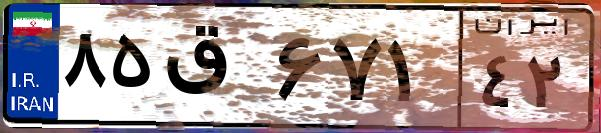1: (385, 28, 445, 110)
2: (525, 38, 570, 115)
4: (475, 38, 525, 113)
5: (110, 28, 158, 98)
6: (270, 28, 330, 110)
7: (330, 28, 385, 110)
8: (57, 26, 110, 100)
ق: (158, 20, 270, 120)
